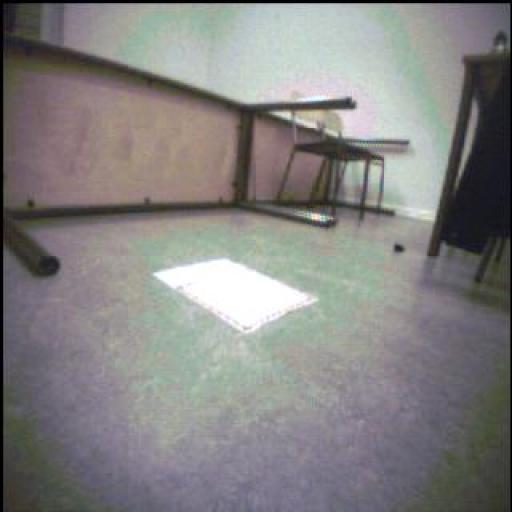Pad: (155, 260, 318, 334)
